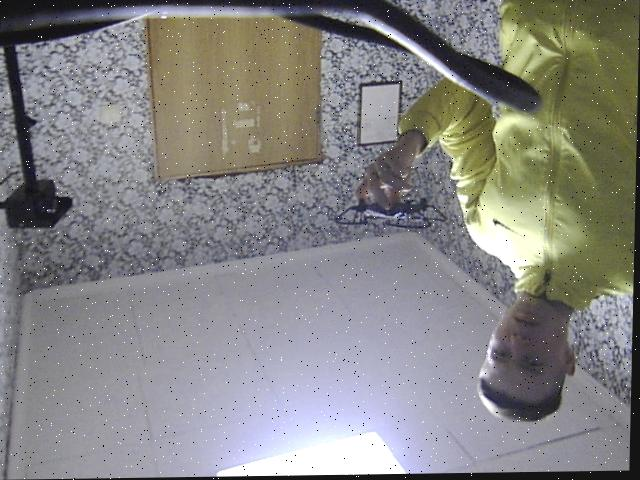drone: (332, 190, 459, 245)
